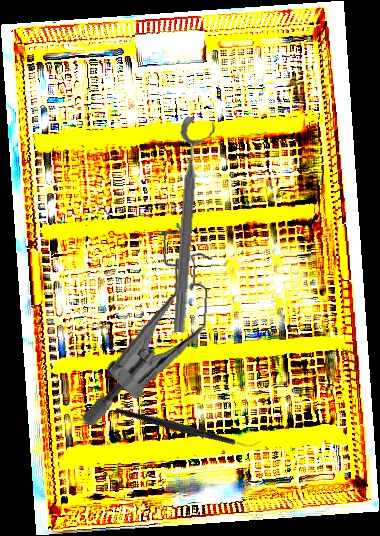Chopper: (113, 361, 263, 492)
Fixation Ring: (166, 116, 218, 334)
Speculum: (79, 217, 218, 433)
